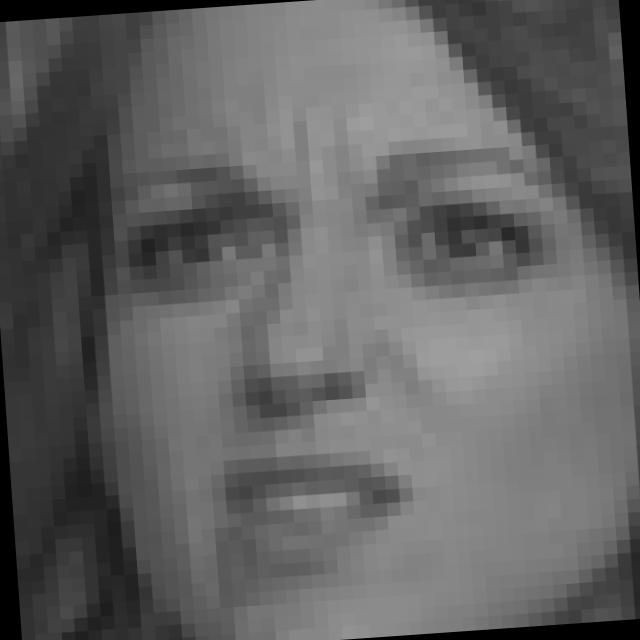disgust: (109, 132, 582, 584)
